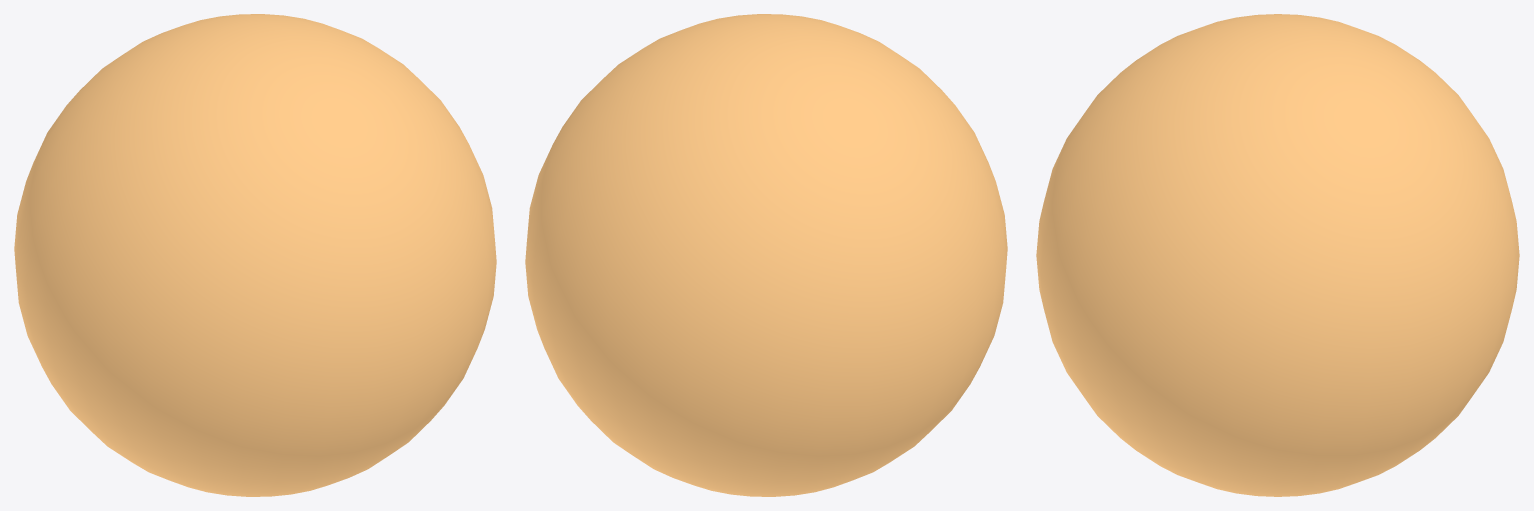
The model's file is star.glb.
The picture shows the model from 3 angles, left to right: view 1: azimuth 30°, elevation 25°; view 2: azimuth 150°, elevation 25°; view 3: azimuth 270°, elevation 25°; orthographic projection.
Visible parts, largest first — view 1: Corona; view 2: Corona; view 3: Corona.
Boxes of the visible parts, x1,y1,x2,y2 form: Corona: (14, 14, 496, 496); Corona: (525, 14, 1007, 496); Corona: (1036, 14, 1519, 496).
Size of the model in its own units: 12.4 by 12.4 by 12.4.
